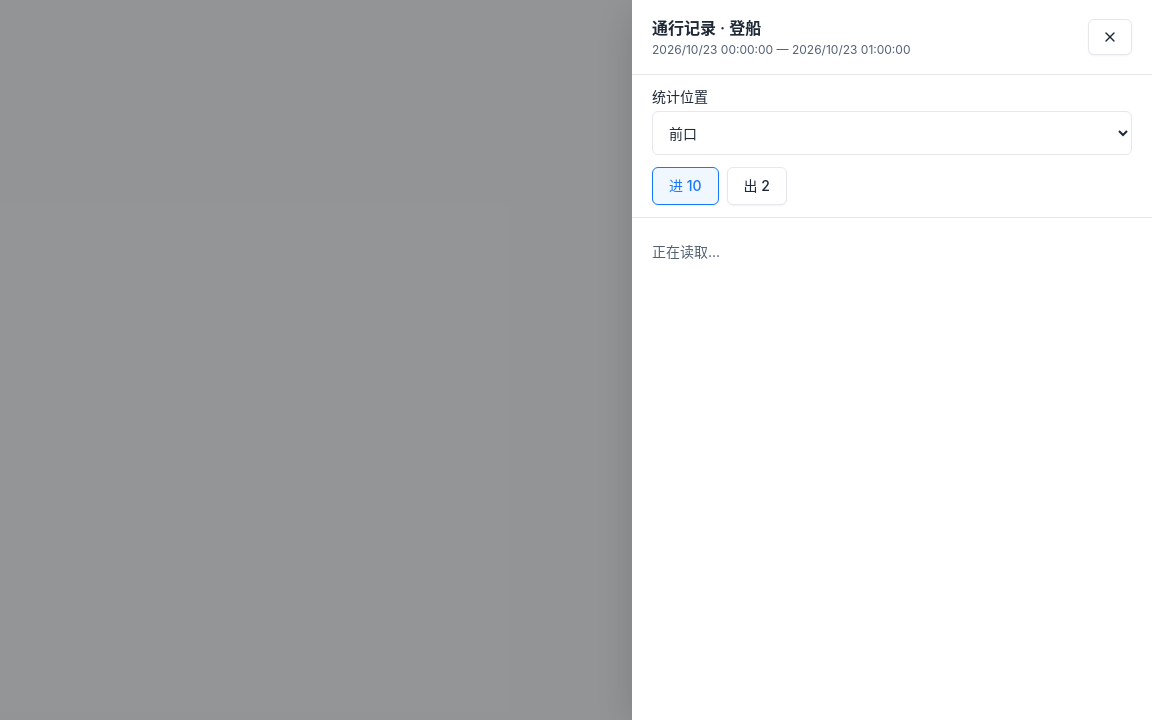
Test: late records from another location cannot appear under the current camera
Select "后口" in the dropdown named "记录所属热区" at (892, 133), box [652,111,1132,155]
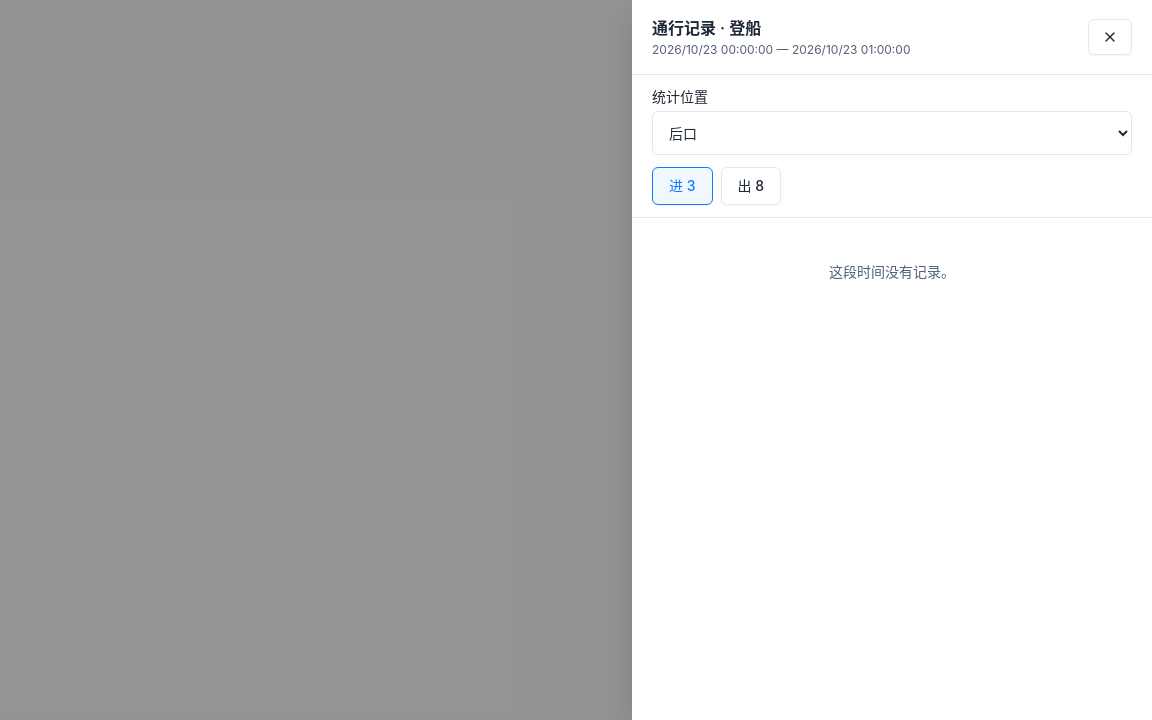
expect the text "这段时间没有记录。" is shown: met, box [829,263,955,280]
